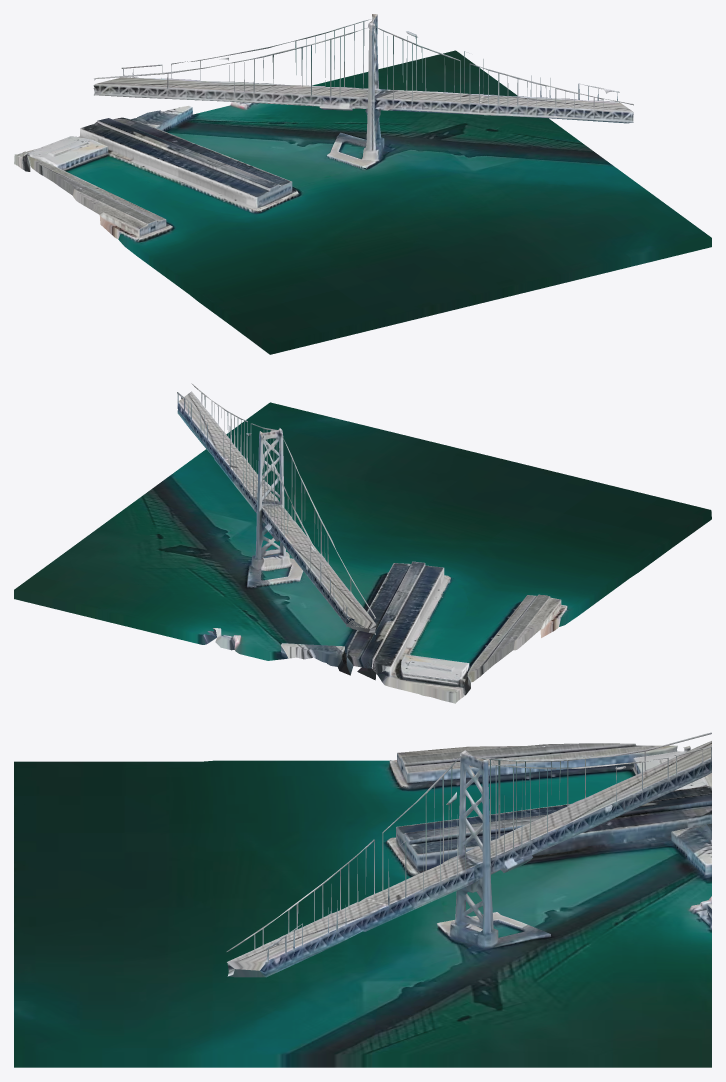
Rendered from z16-10488-25327-h0-yup-uvflip-v3-world.glb.
3 views of the same model, one above another, from view 1: azimuth 30°, elevation 25°; view 2: azimuth 150°, elevation 25°; view 3: azimuth 270°, elevation 25° (orthographic). The views are drawn at different scales.
Bounding box in the file's own units: 483 × 153 × 485.
Materials: 1 (1 with a texture image).
